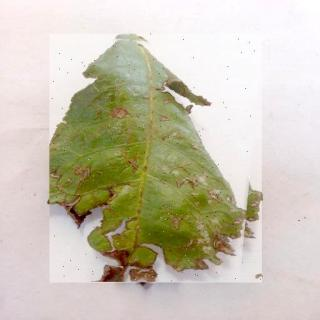Algal Leaf: (50, 35, 263, 285)
